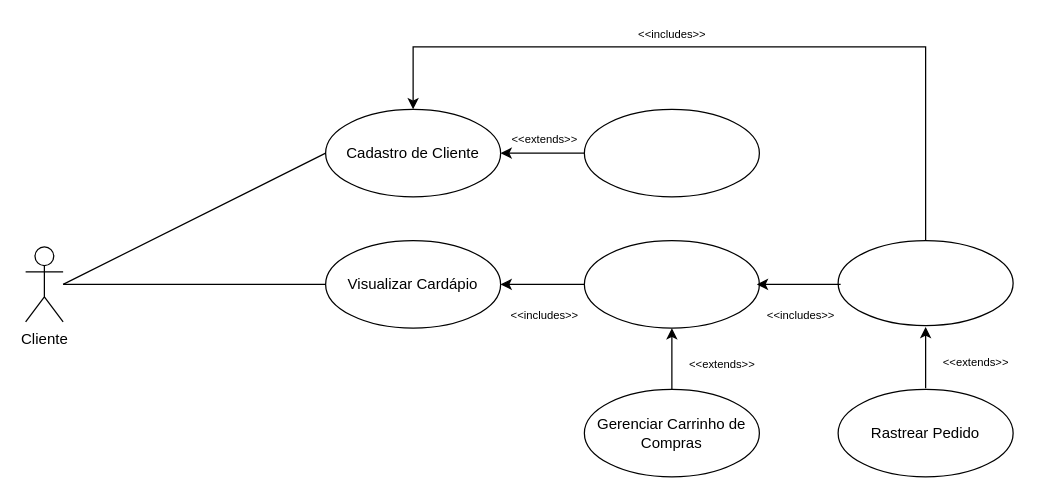
This 1048x499 diagram has some shape labels left out. Here are the shapes that lost their labels. From the top down, the box of each, then its label:
(583, 108, 759, 197): Gerenciar Conta
(583, 239, 759, 328): Adicionar Produtos ao Carrinho
(837, 239, 1013, 326): Realizar Pedido
